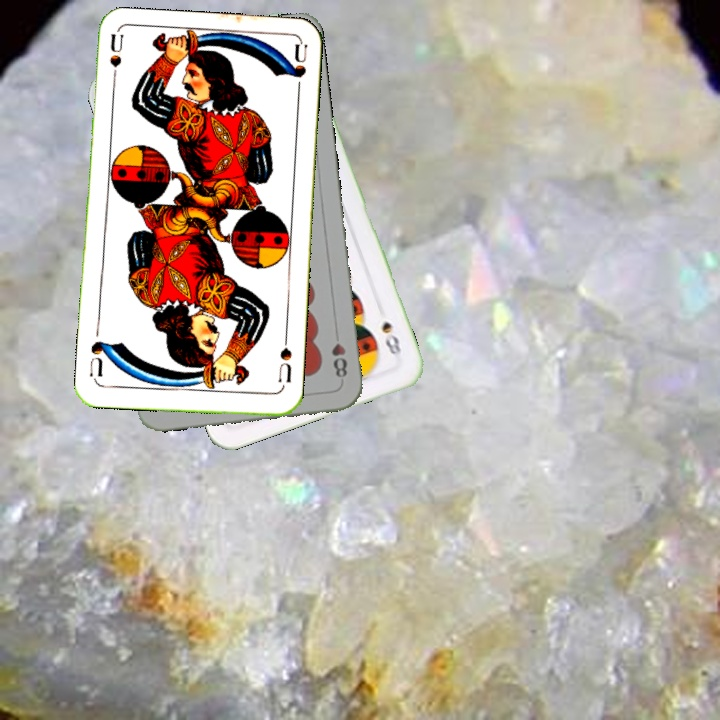H8: (327, 325, 350, 380)
S8: (377, 317, 405, 362)
SU: (274, 332, 295, 391), (105, 32, 126, 91)
